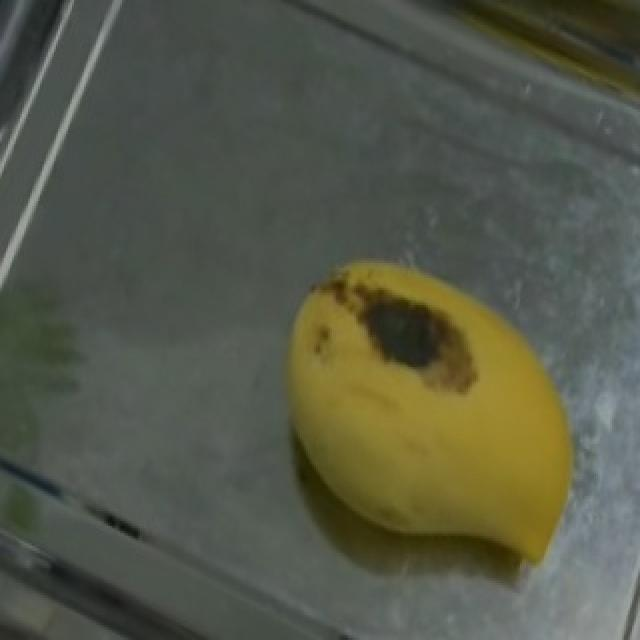fruit: (284, 255, 630, 603)
